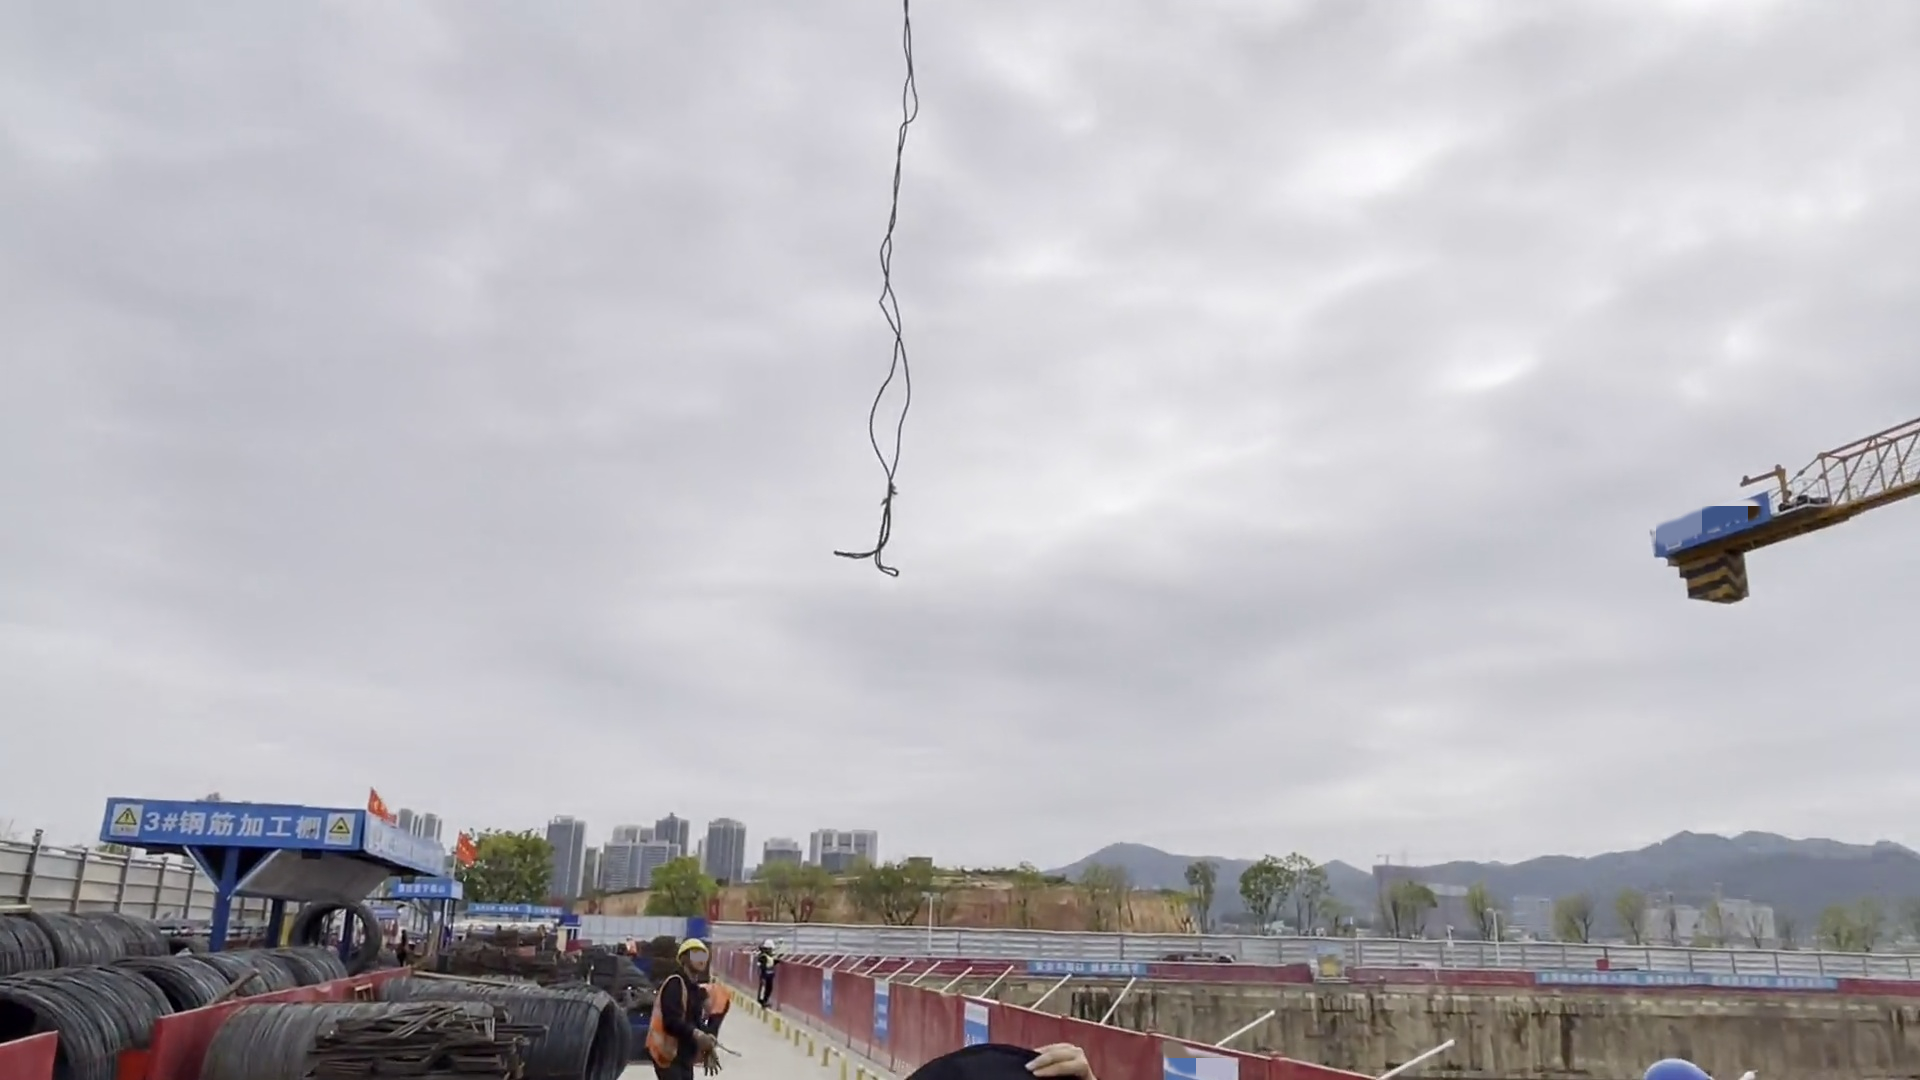fence: (791, 961, 994, 1056), (1003, 956, 1511, 980)
helmet: (762, 938, 780, 950)
person: (654, 929, 724, 1080), (755, 935, 784, 1015)
slogan: (97, 796, 355, 834), (371, 832, 450, 870), (863, 977, 892, 1046), (1038, 959, 1148, 974), (475, 902, 554, 920), (395, 881, 447, 899)
vest: (659, 974, 699, 1054), (670, 926, 720, 958), (758, 951, 776, 978)
